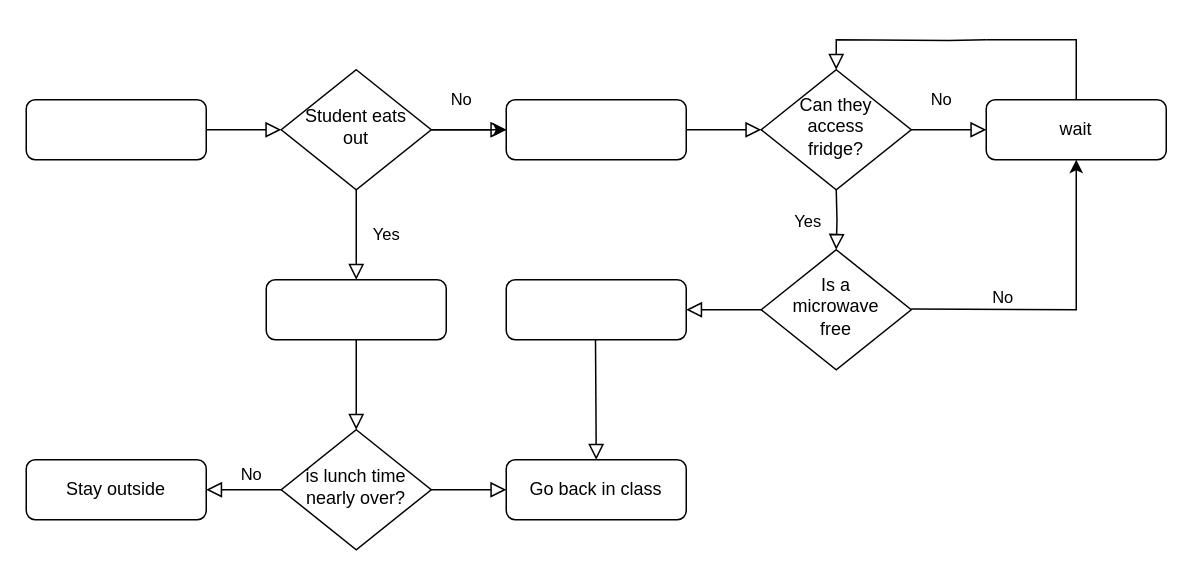
The diagram is 1193 pixels wide and 576 high, and some of its shapes have lost their labels. Here are the shapes that lost their labels. From the top down, the centre of each, then its label:
At point (115, 129): "lunch rush start".
At point (595, 129): "Go to Cafeteria".
At point (355, 309): "Exit Building".
At point (595, 309): "Eat".
